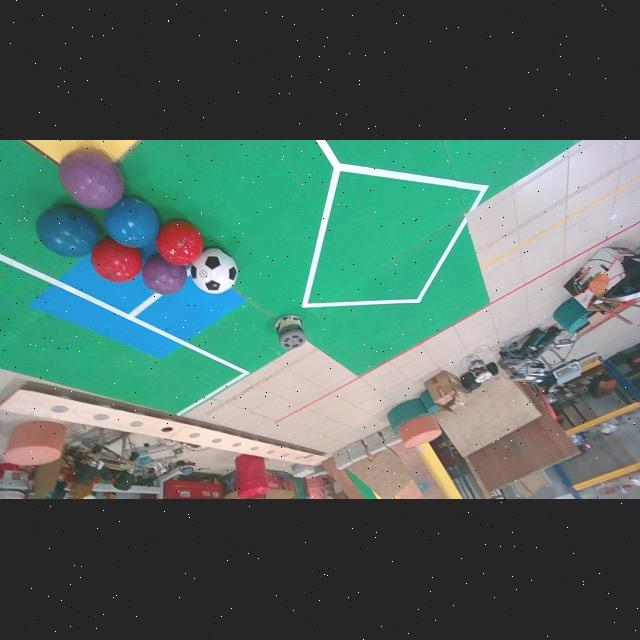B: (36, 206, 99, 257), (104, 197, 159, 248)
P: (58, 150, 125, 209), (143, 255, 185, 294)
R: (91, 237, 143, 283), (155, 220, 204, 266)
